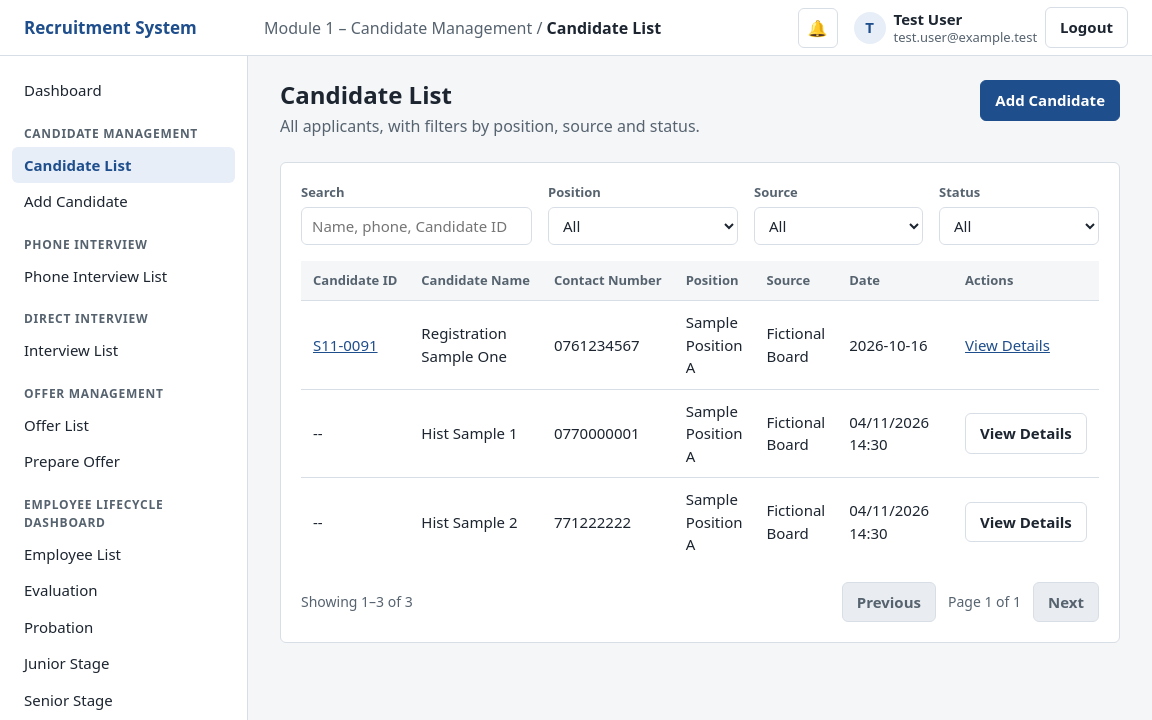
Test: Candidate List: View Details by clicking › clicking another row shows that row, never the previous one
Click the button with aria-label "View details of record 2".
click(1026, 433)  # box [965, 413, 1087, 454]
(page scrolled)
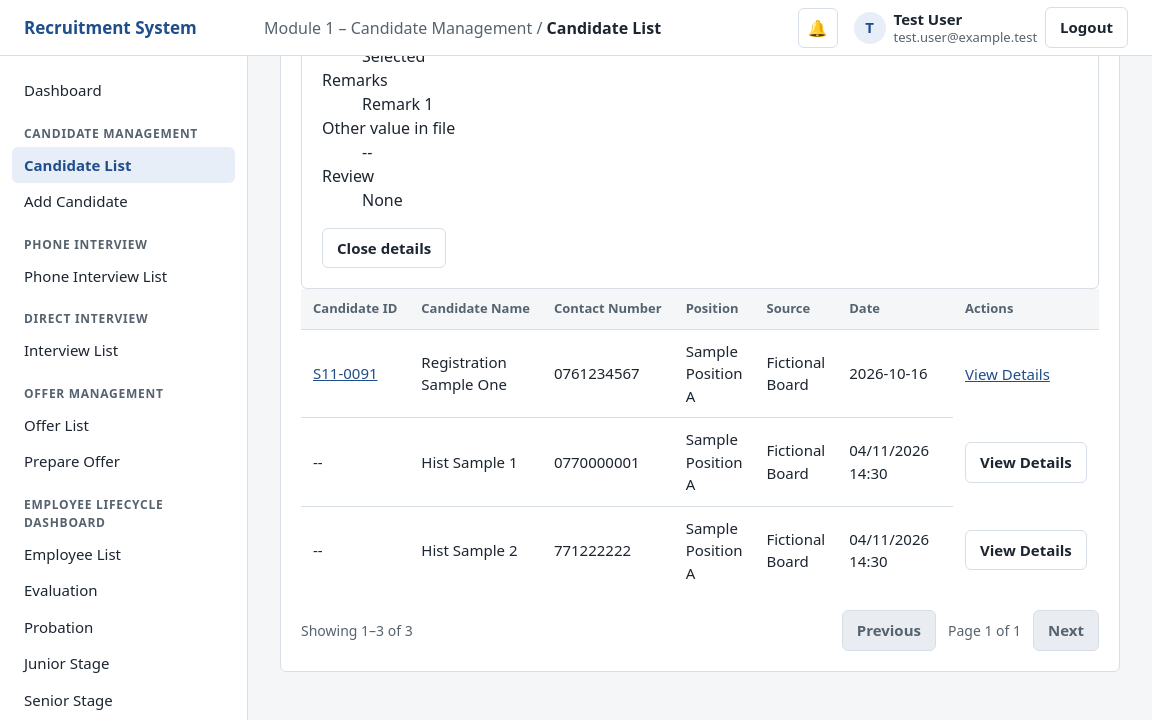
Expected: the text "Remark 1" is shown, [362, 92, 433, 114]
Click the button with aria-label "View details of record 3".
click(1026, 550)  # box [965, 530, 1087, 570]
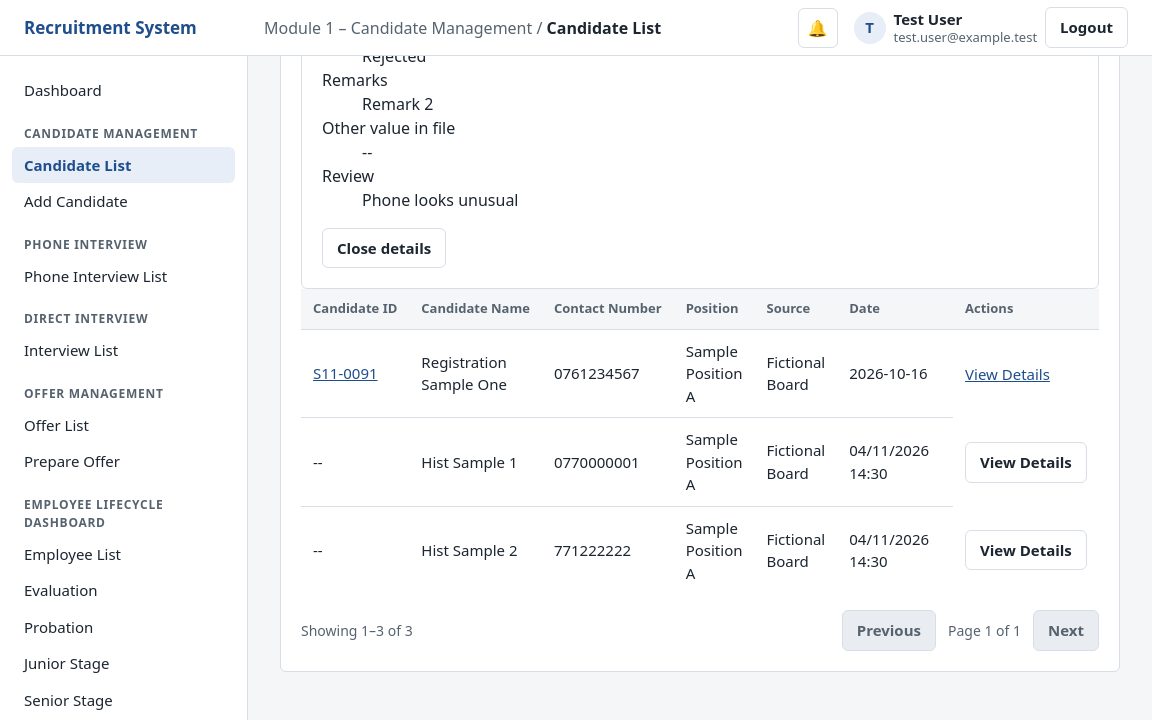
Expected: the text "Remark 2" is shown, [362, 92, 433, 114]
